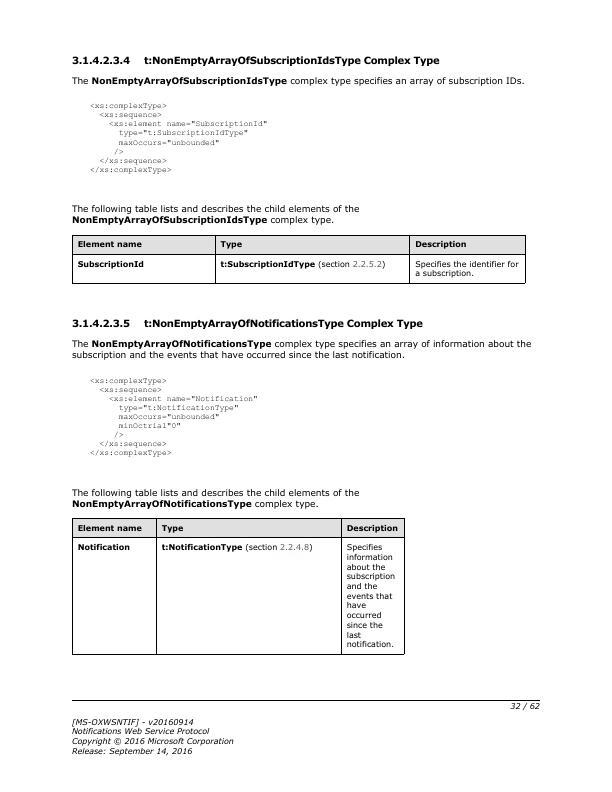table: (72, 516, 406, 657), (68, 232, 528, 286)
text: (87, 373, 259, 458), (85, 100, 269, 175), (68, 336, 533, 361), (68, 484, 359, 511), (71, 712, 238, 758), (68, 202, 361, 226), (66, 50, 442, 68), (68, 73, 527, 87), (68, 317, 424, 331)
